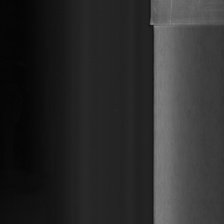welding_line: (149, 18, 222, 30)
